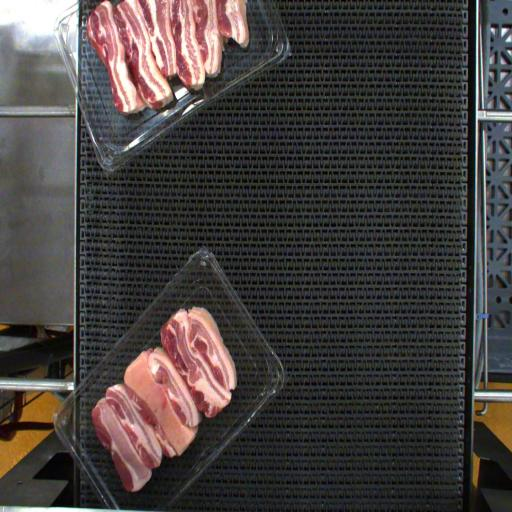twisted-meat: (136, 352, 196, 451)
